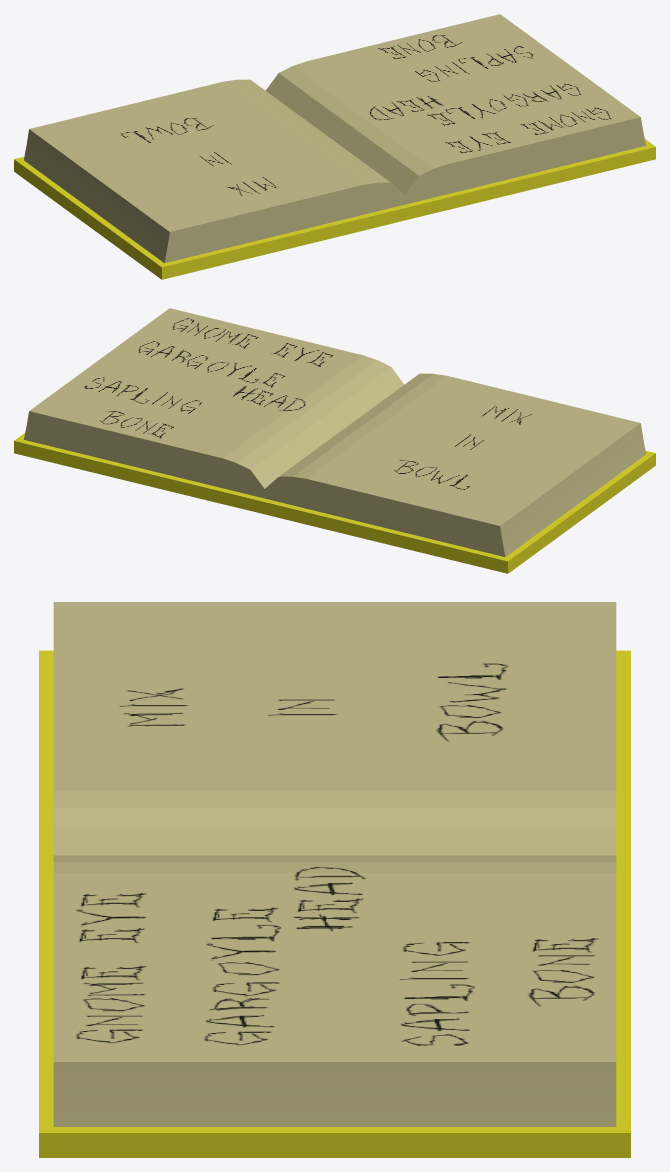
File: RitualTome_Open.fbx
The picture shows the model from 3 angles, top to bottom: view 1: azimuth 30°, elevation 25°; view 2: azimuth 150°, elevation 25°; view 3: azimuth 270°, elevation 25°; orthographic projection. The views are drawn at different scales.
Visible parts, largest first — view 1: Tome_Open; view 2: Tome_Open; view 3: Tome_Open.
Boxes of the visible parts, bbox=[...] form: Tome_Open: bbox=[14, 14, 655, 279]; Tome_Open: bbox=[14, 308, 655, 573]; Tome_Open: bbox=[39, 602, 630, 1157].
Size of the model in its own units: 34.71 by 3.14 by 18.
